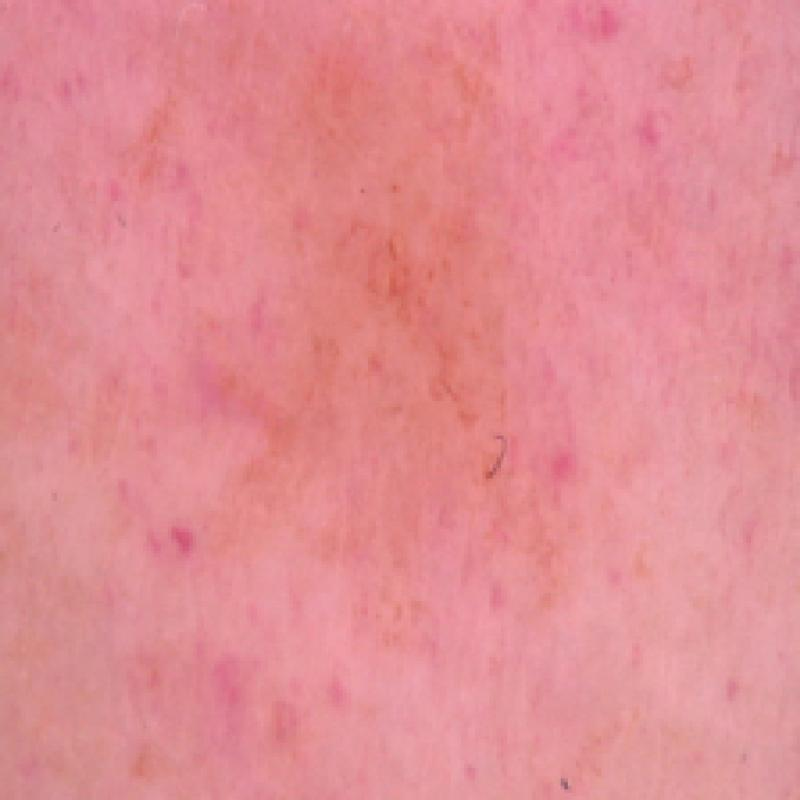benign: (246, 196, 562, 550)
